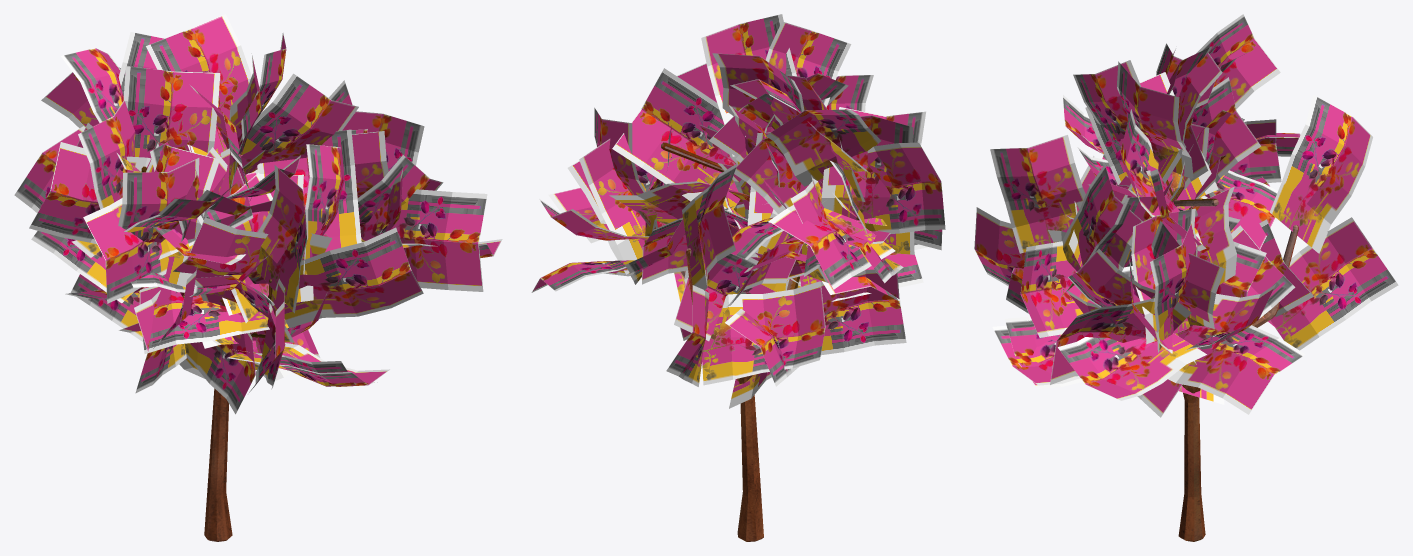
The model's file is Autumn tree 03.glb.
The picture shows the model from 3 angles, left to right: view 1: azimuth 30°, elevation 25°; view 2: azimuth 150°, elevation 25°; view 3: azimuth 270°, elevation 25°; orthographic projection. The views are drawn at different scales.
Visible parts, largest first — view 1: Autumn leaf 03, Autumn tree 03; view 2: Autumn leaf 03, Autumn tree 03; view 3: Autumn leaf 03, Autumn tree 03.
Part boxes in pixels (x1,y1,x2,y2): Autumn leaf 03: (14,14,502,414); Autumn tree 03: (141,166,272,541); Autumn leaf 03: (531,14,945,408); Autumn tree 03: (637,142,859,541); Autumn leaf 03: (974,14,1398,417); Autumn tree 03: (1155,159,1298,541).
Size of what is drawn, in the model's own units: 6.83 by 7.54 by 6.04.
2 materials, 2 textured.
